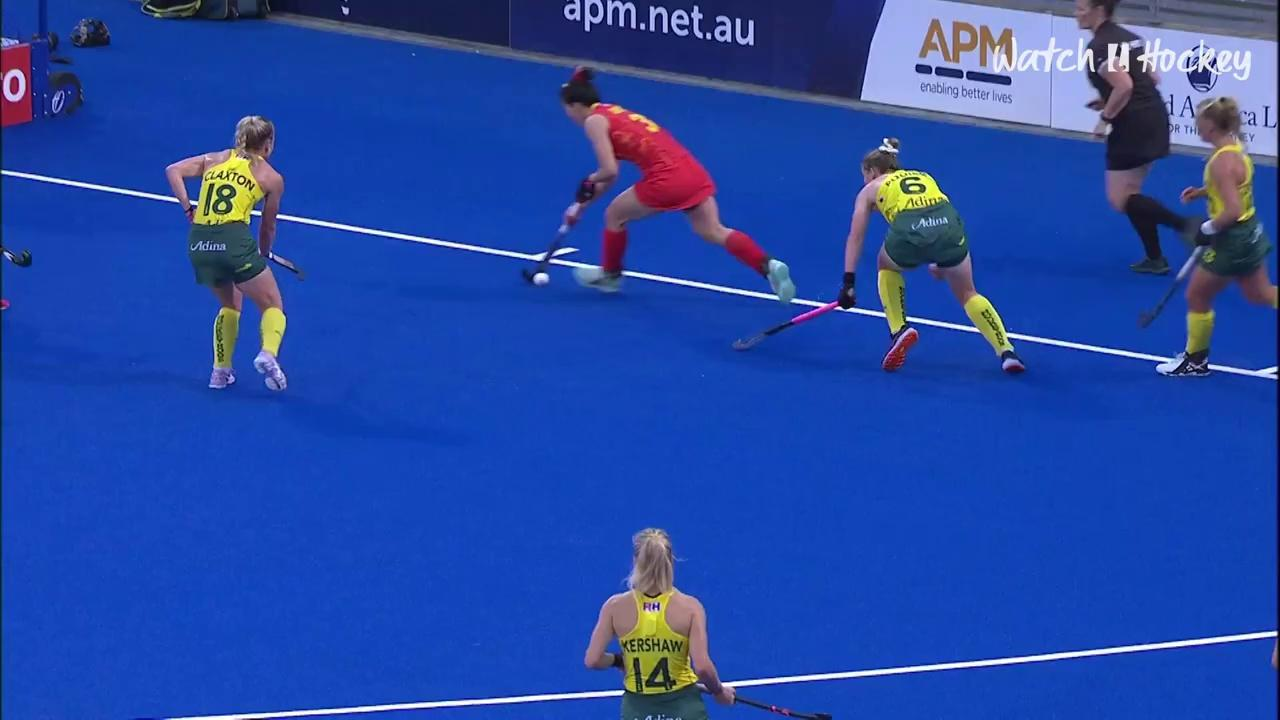ball: (528, 264, 560, 295)
